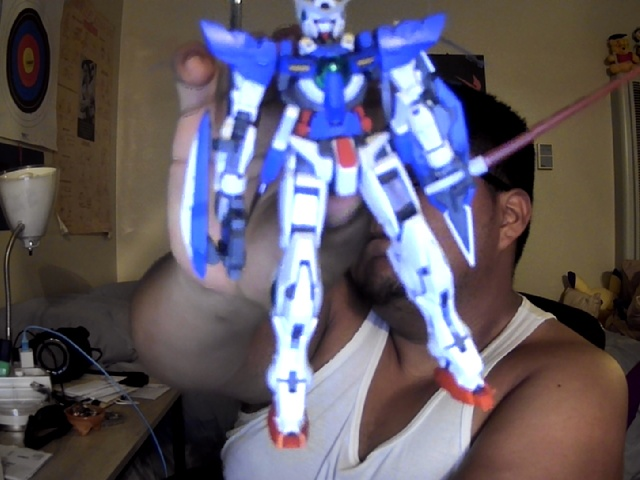Exia: (181, 2, 637, 449)
